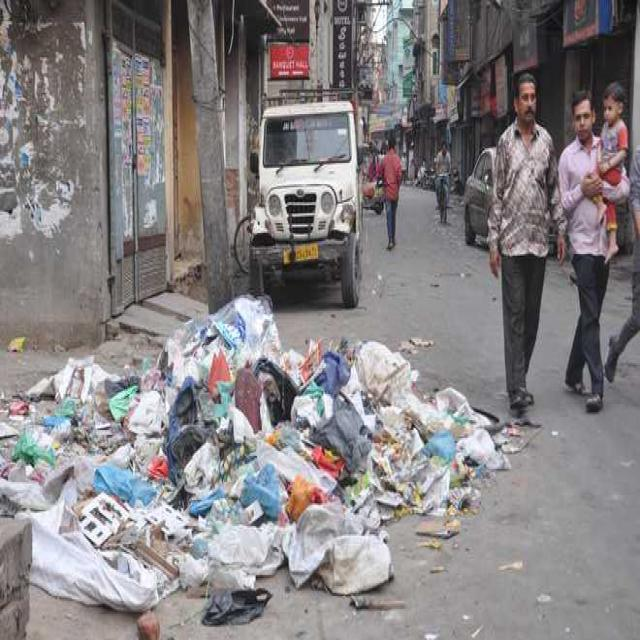garbage: (0, 268, 514, 640)
